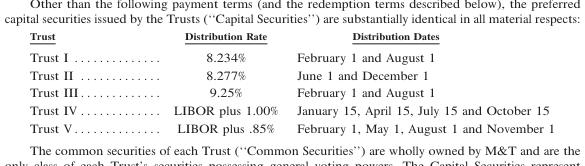table: (29, 28, 554, 135)
table column: (286, 28, 554, 135), (29, 28, 166, 135), (166, 28, 286, 135)
table column header: (29, 28, 554, 45)
table row: (29, 45, 554, 64), (29, 64, 554, 82), (29, 82, 554, 100), (29, 117, 554, 135), (29, 28, 554, 45), (29, 100, 554, 117)
